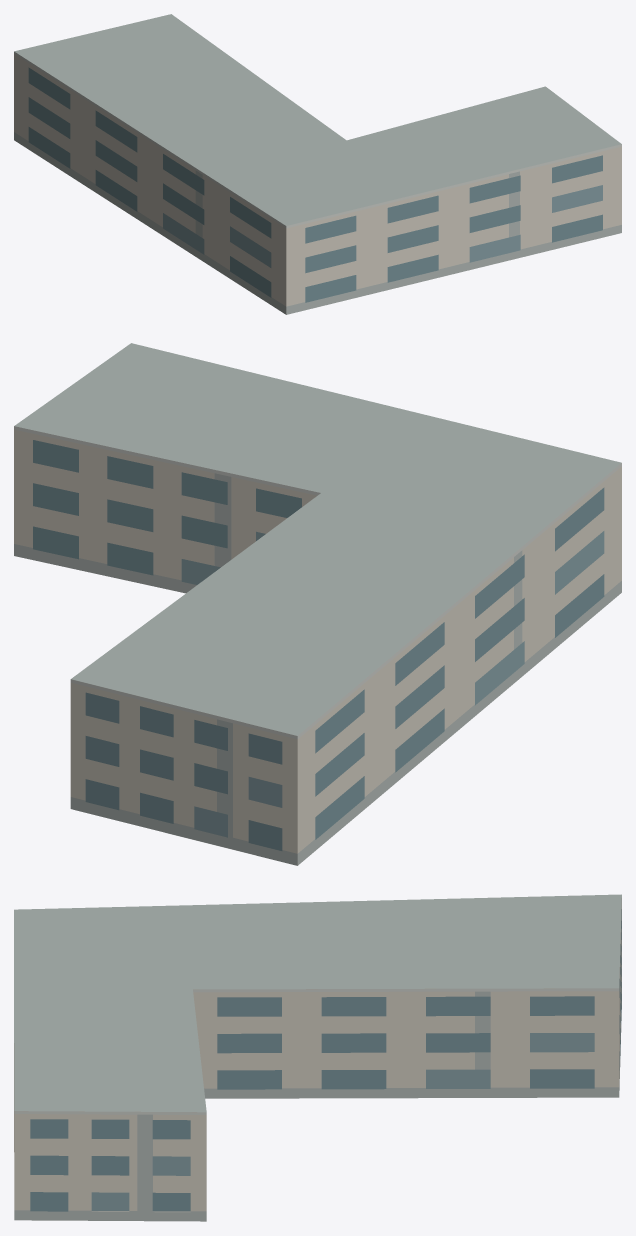
The model's file is survey-upis-32971581.glb.
3 views of the same model, one above another, from view 1: azimuth 30°, elevation 25°; view 2: azimuth 150°, elevation 25°; view 3: azimuth 270°, elevation 25° (orthographic). The views are drawn at different scales.
Parts seen in each view (by area): view 1: survey-upis-32971581.tmp; view 2: survey-upis-32971581.tmp; view 3: survey-upis-32971581.tmp.
Part boxes in pixels (left/top/right/bottom): survey-upis-32971581.tmp: left=14, top=14, right=621, bottom=314; survey-upis-32971581.tmp: left=14, top=343, right=621, bottom=865; survey-upis-32971581.tmp: left=14, top=894, right=621, bottom=1221.
Size of the model in its own units: 39.11 by 9.15 by 46.14.
